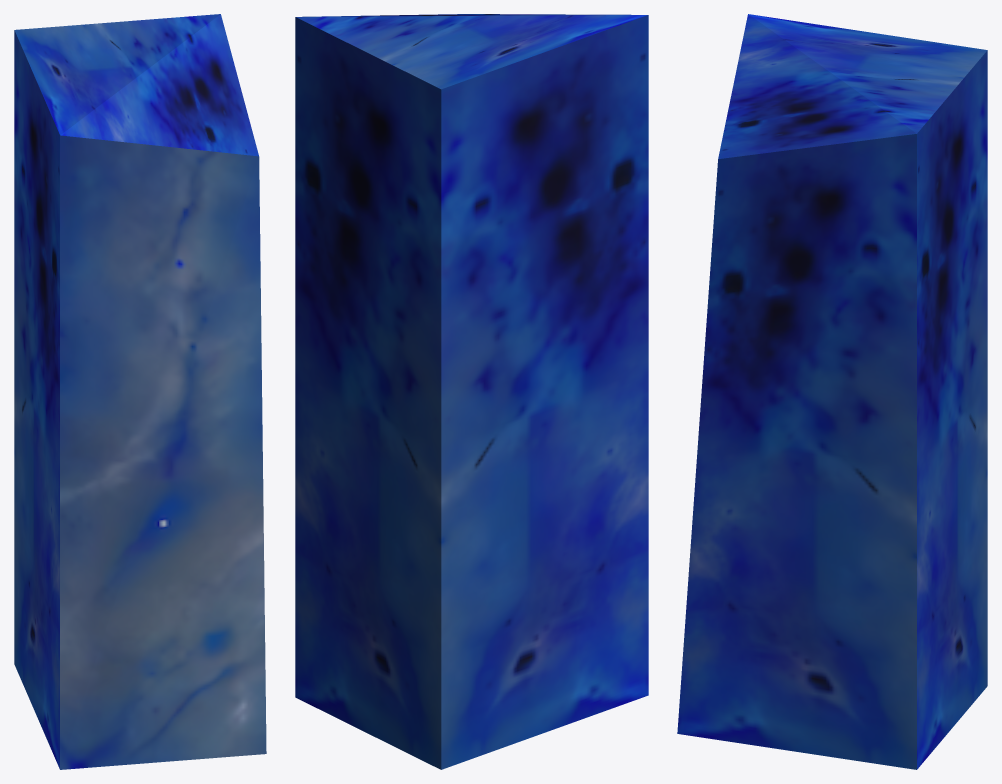
File: BlueBlocks_3.gltf
3 renders of one model, left to right at view 1: azimuth 30°, elevation 25°; view 2: azimuth 150°, elevation 25°; view 3: azimuth 270°, elevation 25°, orthographic. The views are drawn at different scales.
Visible parts, largest first — view 1: BlueBlocks_3; view 2: BlueBlocks_3; view 3: BlueBlocks_3.
Boxes of the visible parts, x1,y1,x2,y2 form: BlueBlocks_3: (14, 14, 266, 769); BlueBlocks_3: (295, 14, 648, 769); BlueBlocks_3: (677, 14, 987, 769).
Bounding box in the file's own units: 5.8 × 14.35 × 6.34.
Materials: 1 (1 with a texture image).
